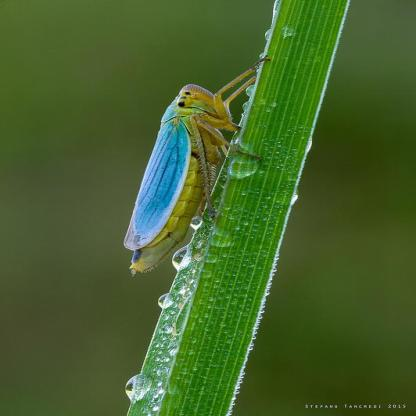Green-Leafhopper: (124, 50, 275, 304)
